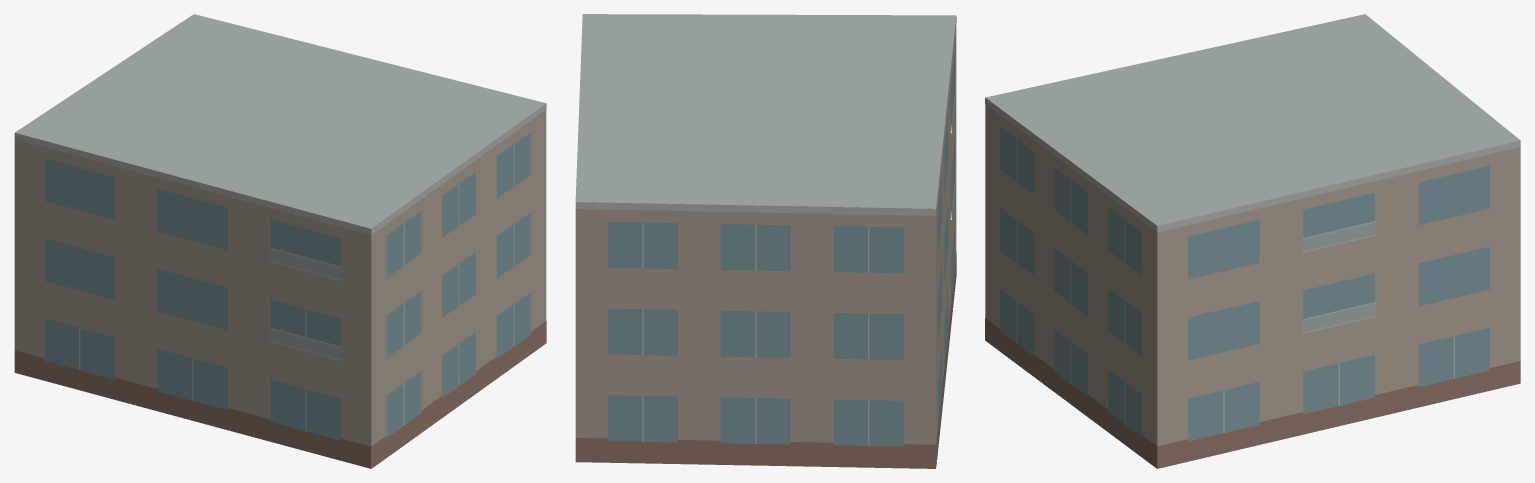
File: survey-upis-32672645.glb
The picture shows the model from 3 angles, left to right: view 1: azimuth 30°, elevation 25°; view 2: azimuth 150°, elevation 25°; view 3: azimuth 270°, elevation 25°; orthographic projection. The views are drawn at different scales.
Visible parts, largest first — view 1: survey-upis-32672645.tmp; view 2: survey-upis-32672645.tmp; view 3: survey-upis-32672645.tmp.
Boxes of the visible parts, x1,y1,x2,y2 form: survey-upis-32672645.tmp: (14, 14, 546, 468); survey-upis-32672645.tmp: (575, 14, 956, 468); survey-upis-32672645.tmp: (985, 14, 1520, 468).
Bounding box in the file's own units: 17.12 × 9.15 × 18.29.
